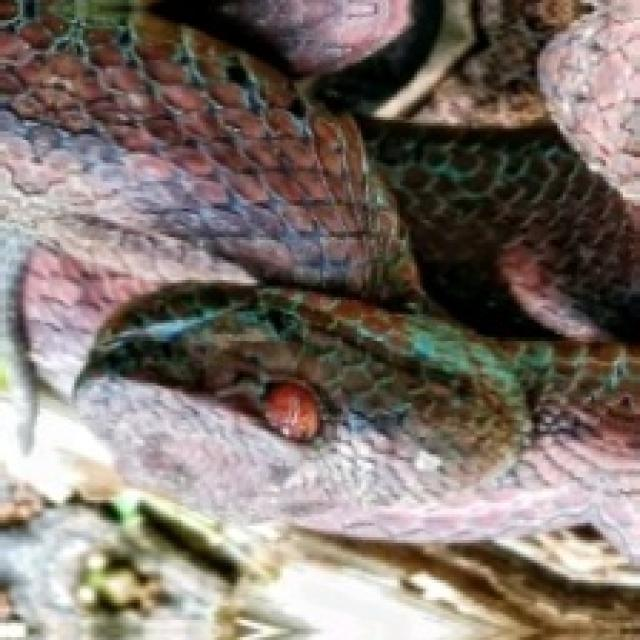philippine pitviper: (0, 1, 640, 567)
